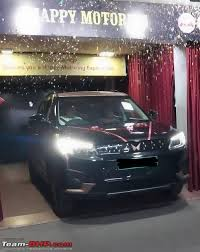XUV 400: (26, 91, 189, 222)
